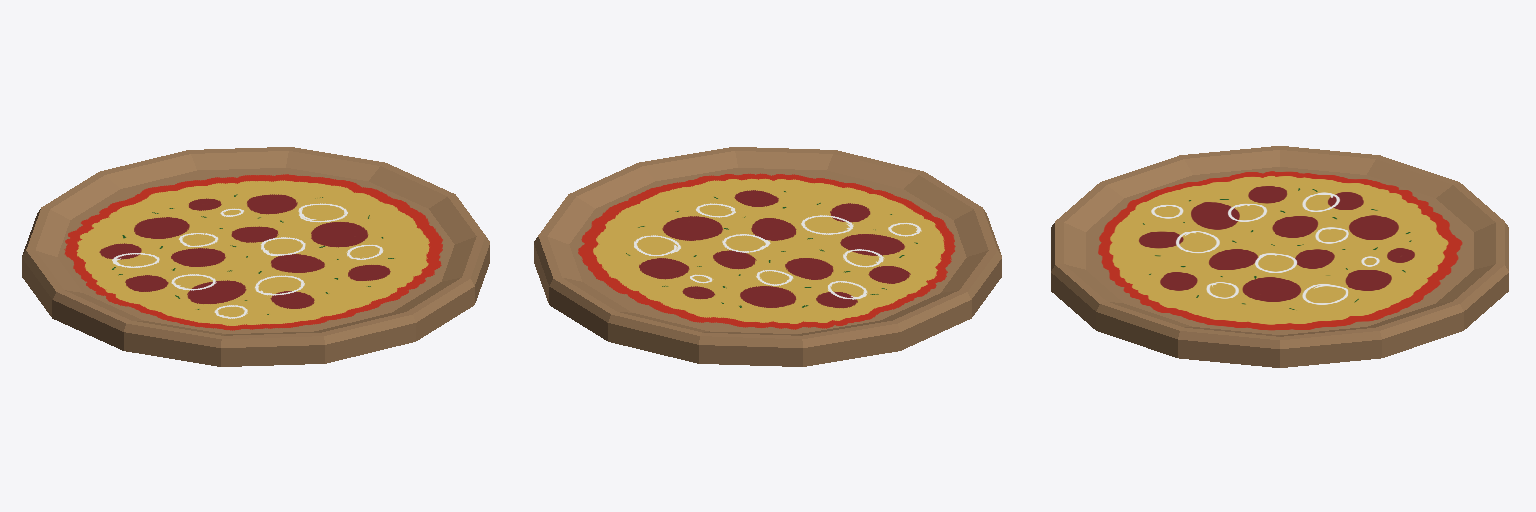
3 renders of one model, left to right at view 1: azimuth 30°, elevation 25°; view 2: azimuth 150°, elevation 25°; view 3: azimuth 270°, elevation 25°, orthographic.
Visible parts, largest first — view 1: Pizza; view 2: Pizza; view 3: Pizza.
Boxes of the visible parts, x1,y1,x2,y2 form: Pizza: [22, 147, 489, 366]; Pizza: [534, 147, 1001, 366]; Pizza: [1051, 146, 1508, 367].
Size of the model in its own units: 0.8509 by 0.0516 by 0.8296.
Materials: 1 (1 with a texture image).